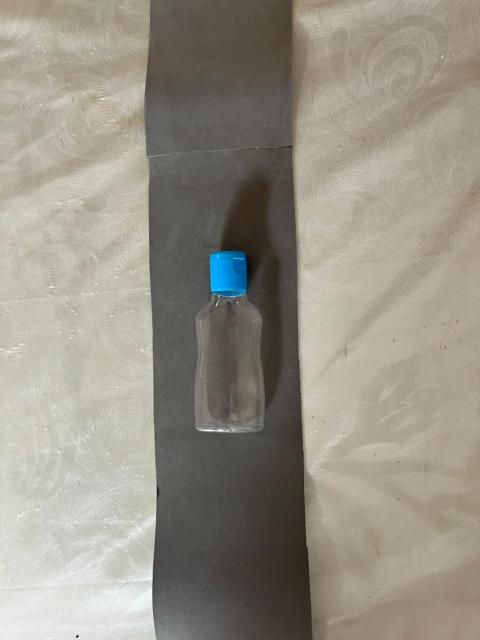PET: (162, 217, 298, 462)
